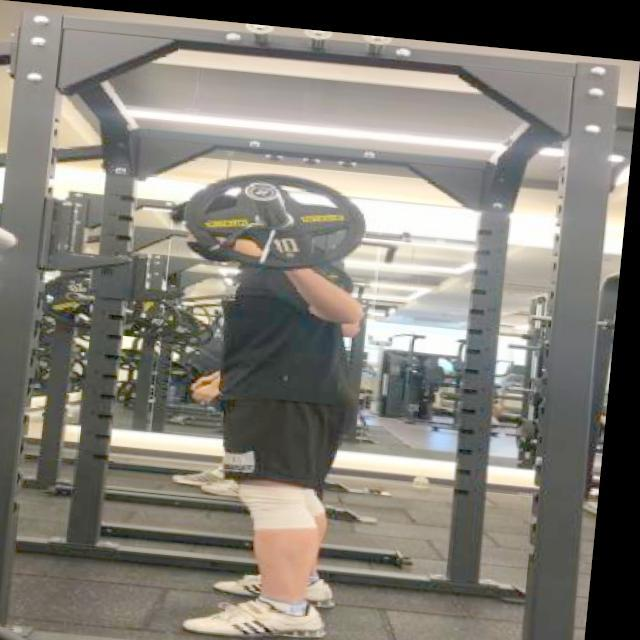barbell: (183, 153, 378, 276)
